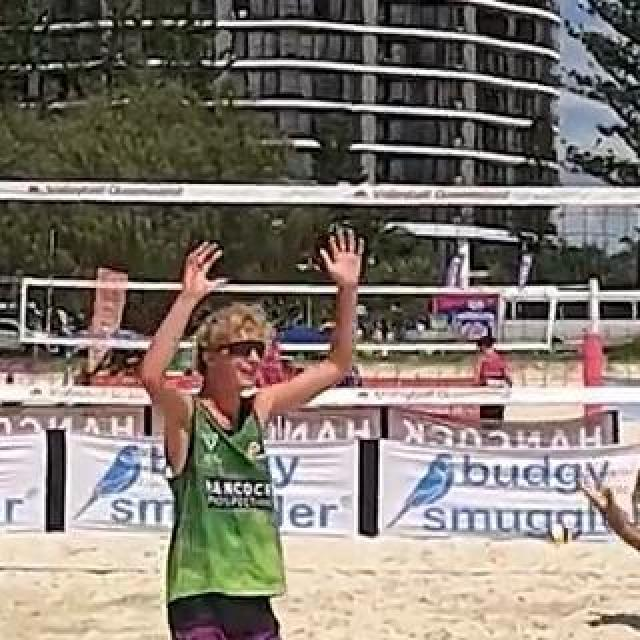volleyball: (544, 522, 572, 548)
